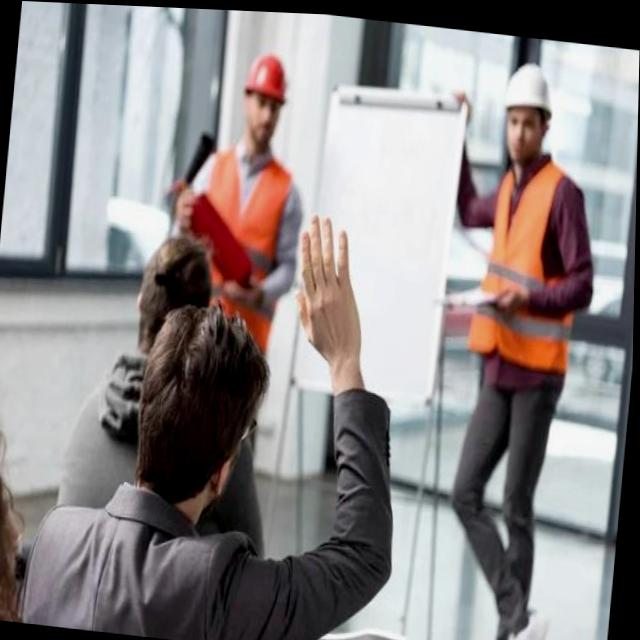FireExtinguisher: (157, 115, 269, 295)
